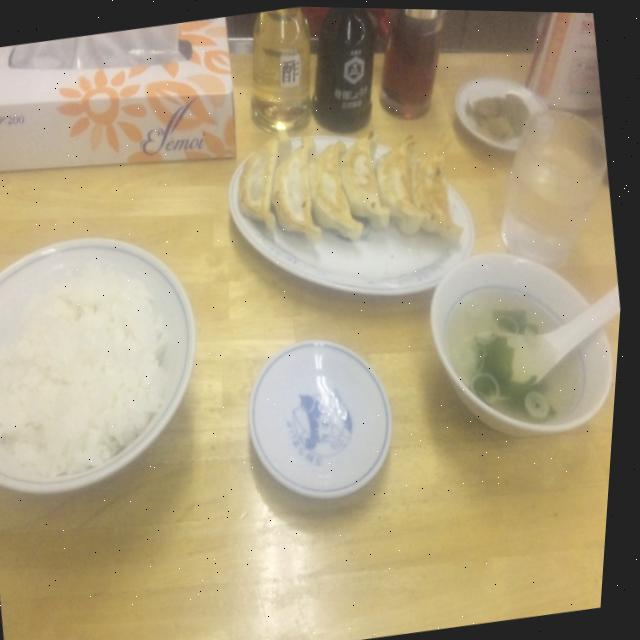带馅早点: (219, 103, 489, 318)
米饭主食: (0, 226, 216, 495)
